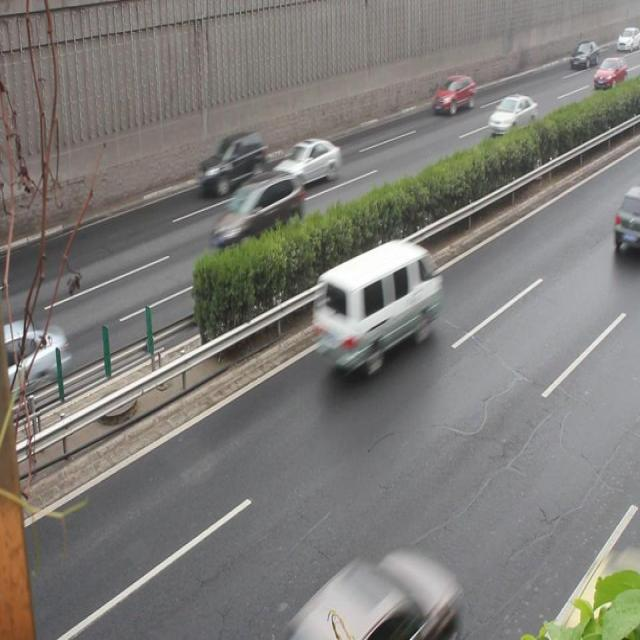car: (291, 544, 454, 639), (210, 167, 300, 251), (0, 310, 68, 392), (199, 128, 265, 191), (271, 133, 340, 188), (487, 90, 535, 135), (610, 183, 639, 250), (431, 72, 472, 114)
